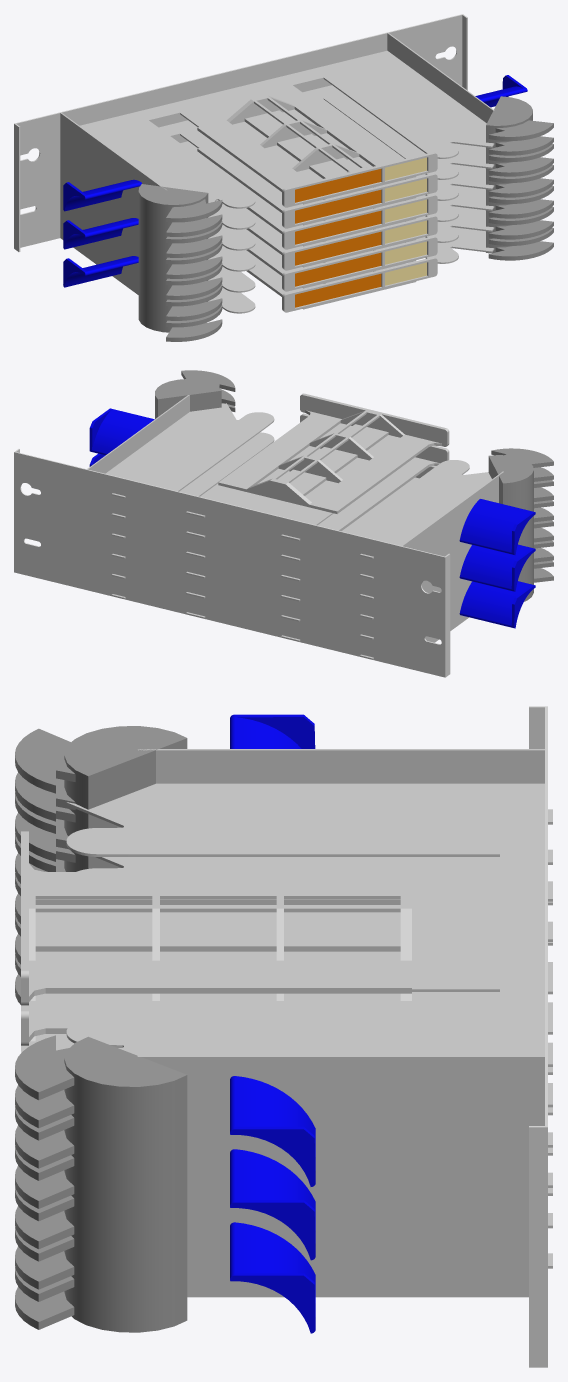
Rendered from Chassis-LISA-PATCH-3U.glb.
3 views of the same model, one above another, from view 1: azimuth 30°, elevation 25°; view 2: azimuth 150°, elevation 25°; view 3: azimuth 270°, elevation 25° (orthographic). The views are drawn at different scales.
Visible parts, largest first — view 1: Geom3D_ (×33), Geom3D_drawer (×6), Geom3D (×13), Geom3D_Patch cassette#1 (×6); view 2: Geom3D_ (×11), Geom3D_drawer (×2), Geom3D_Patch cassette#1 (×3); view 3: Geom3D_ (×24), Geom3D_drawer (×2), Geom3D_Patch cassette#1 (×2).
Boxes of the visible parts, x1,y1,x2,y2 form: Geom3D_ (×33): [14, 14, 553, 341]; Geom3D_drawer (×6): [80, 50, 494, 313]; Geom3D (×13): [16, 15, 462, 307]; Geom3D_Patch cassette#1 (×6): [197, 95, 437, 312]; Geom3D_ (×11): [14, 370, 553, 677]; Geom3D_drawer (×2): [105, 403, 491, 579]; Geom3D_Patch cassette#1 (×3): [218, 393, 449, 532]; Geom3D_ (×24): [15, 706, 547, 1367]; Geom3D_drawer (×2): [35, 783, 552, 1107]; Geom3D_Patch cassette#1 (×2): [21, 831, 411, 1045].
Size of the model in its own units: 0.5101 by 0.1364 by 0.2688.
